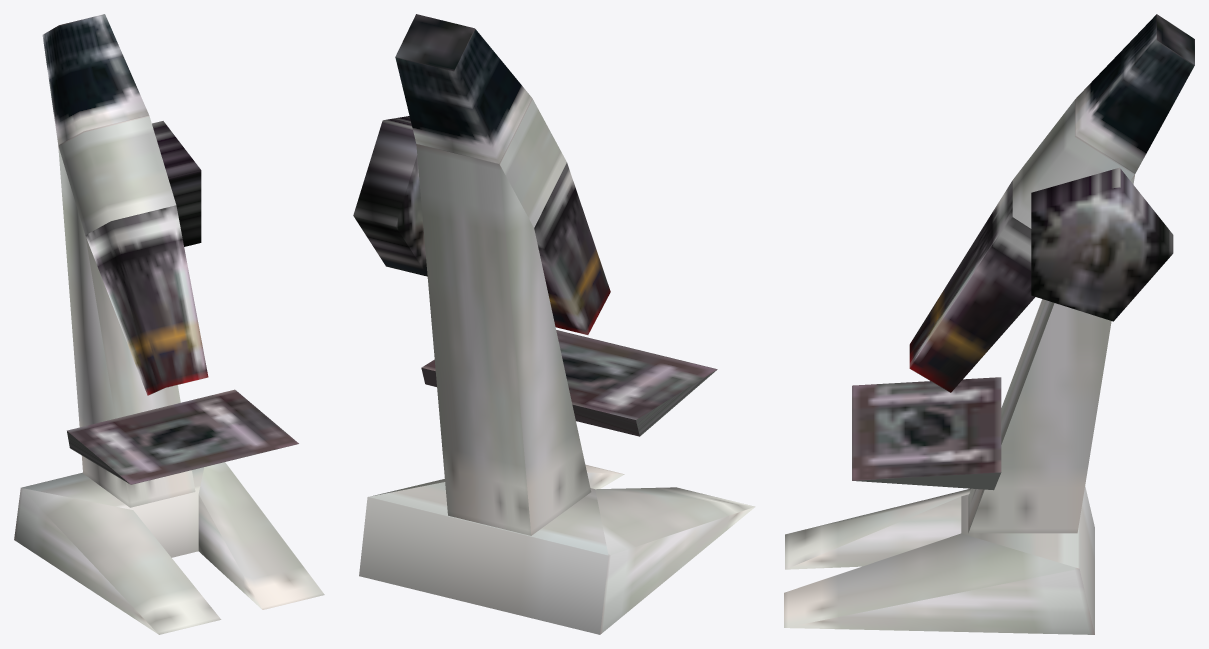
Rendered from Microscope.glb.
3 renders of one model, left to right at view 1: azimuth 30°, elevation 25°; view 2: azimuth 150°, elevation 25°; view 3: azimuth 270°, elevation 25°, orthographic. The views are drawn at different scales.
Parts seen in each view (by area): view 1: MICROSCOPE; view 2: MICROSCOPE; view 3: MICROSCOPE.
Boxes of the visible parts, x1,y1,x2,y2 form: MICROSCOPE: (14, 14, 324, 634); MICROSCOPE: (353, 14, 755, 634); MICROSCOPE: (784, 14, 1194, 634).
Size of the model in its own units: 0.246 by 0.594 by 0.399.
1 material, 1 textured.
